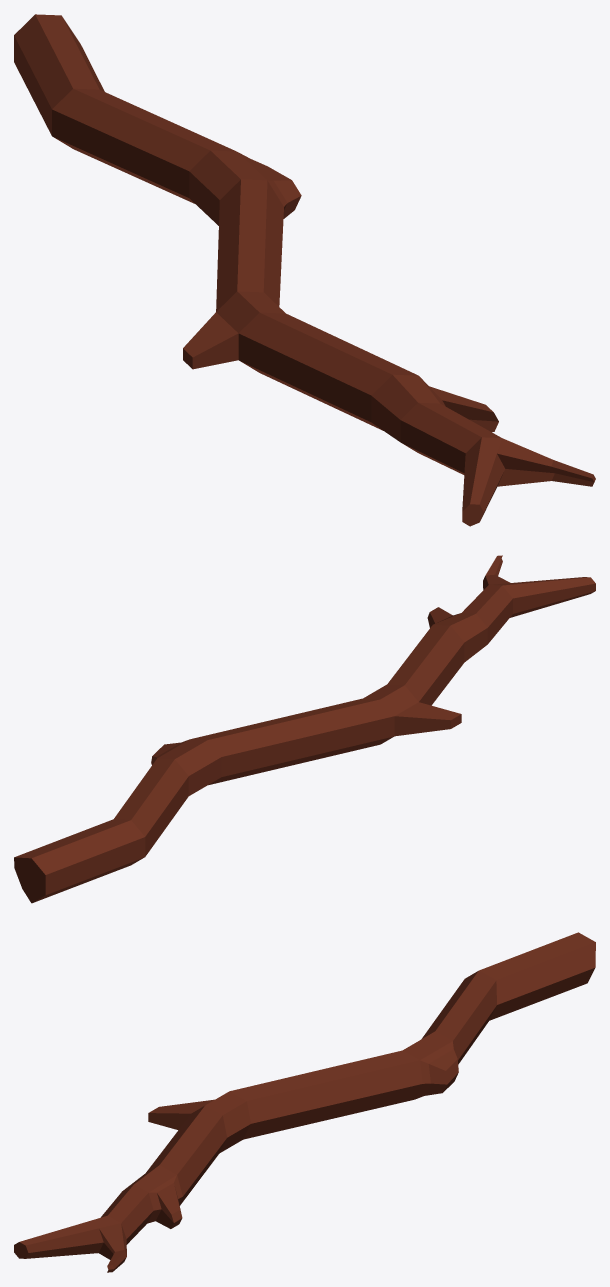
Rendered from Branch_00.fbx.
3 views of the same model, one above another, from view 1: azimuth 30°, elevation 25°; view 2: azimuth 150°, elevation 25°; view 3: azimuth 330°, elevation 25° (orthographic). The views are drawn at different scales.
Visible parts, largest first — view 1: Branch_00; view 2: Branch_00; view 3: Branch_00.
Part boxes in pixels (x1,y1,x2,y2): Branch_00: (14, 14, 595, 526); Branch_00: (14, 555, 595, 903); Branch_00: (14, 932, 595, 1272).
Bounding box in the file's own units: 101 × 22.89 × 408.
